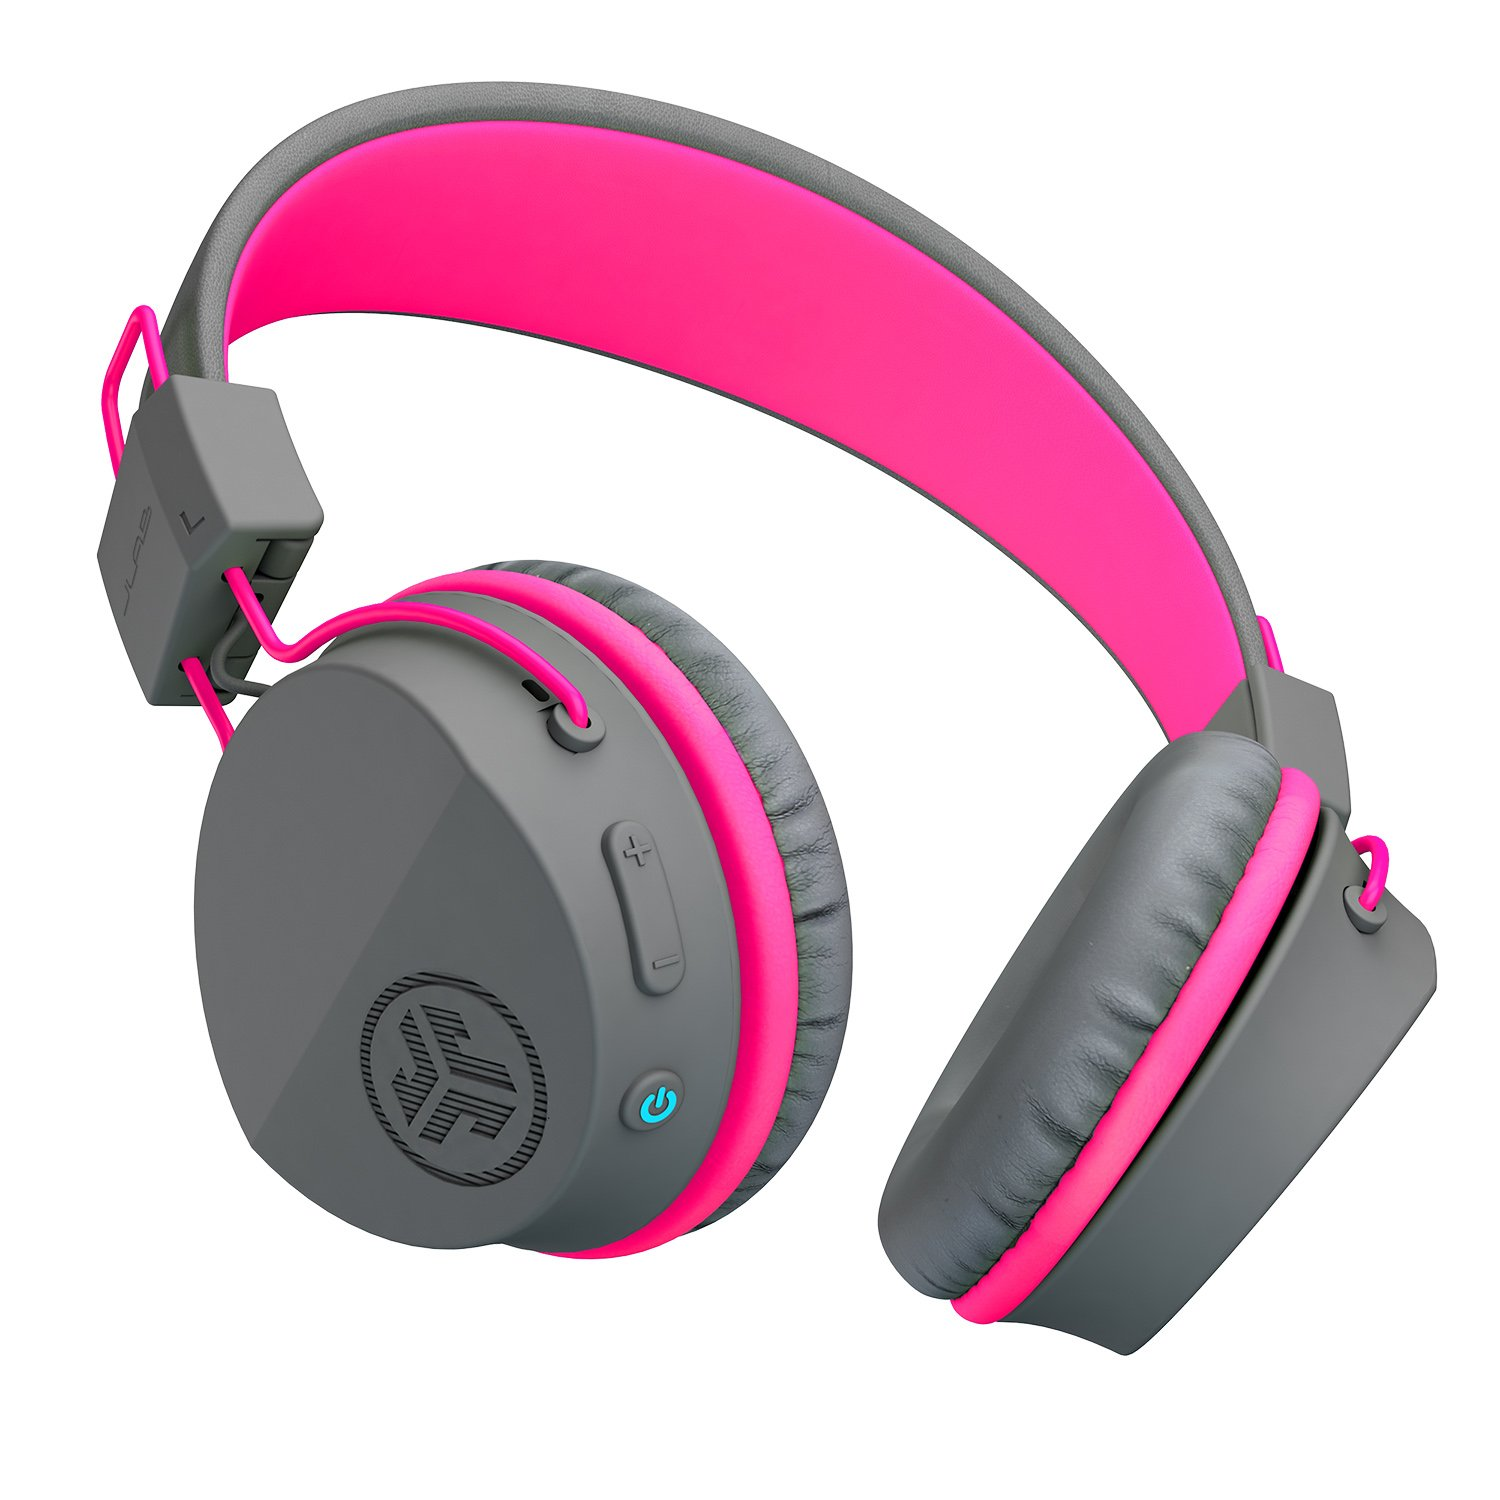Headphone: (62, 65, 1457, 1397)
